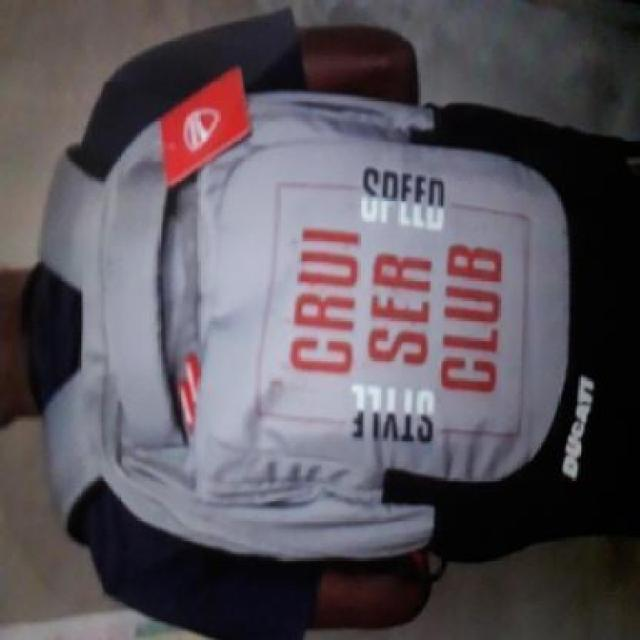backpack: (32, 80, 577, 565)
